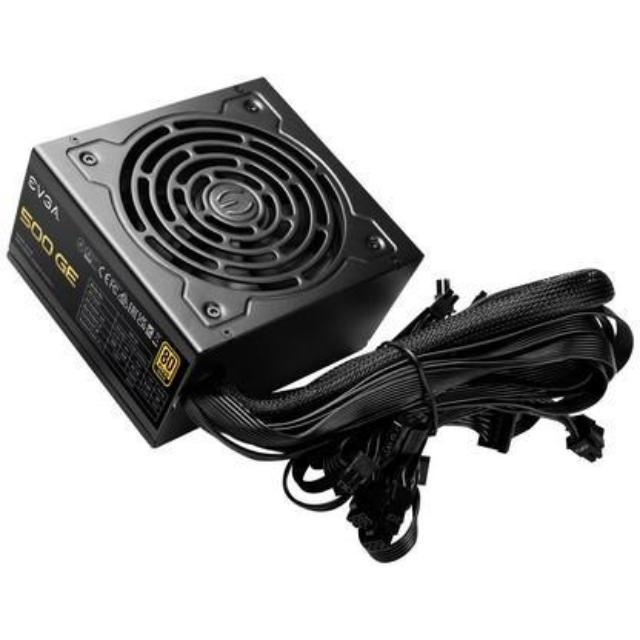PSU: (0, 63, 434, 469)
